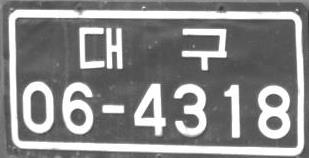0: (22, 79, 54, 134)
1: (217, 83, 250, 138)
3: (172, 82, 207, 137)
4: (134, 82, 165, 136)
6: (61, 81, 93, 135)
8: (256, 83, 290, 140)
대구_D: (78, 27, 228, 70)
